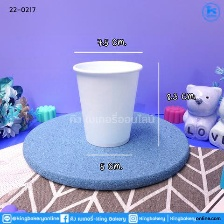paper_cup: (68, 57, 146, 151)
